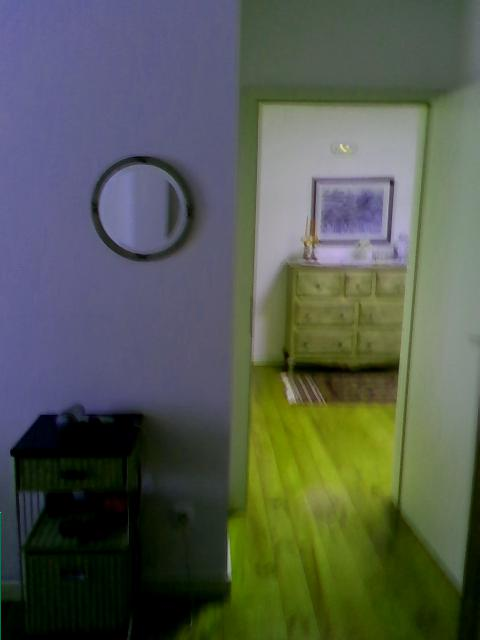open_door: (233, 84, 443, 511)
